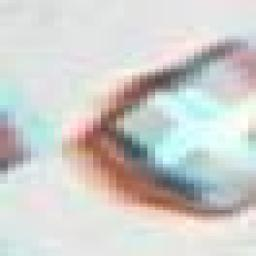crystals: (64, 38, 248, 225)
